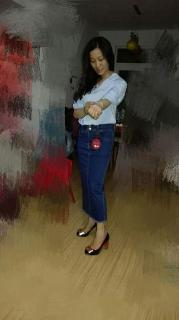short sleeve top: (73, 73, 128, 126)
skirt: (77, 123, 115, 223)
